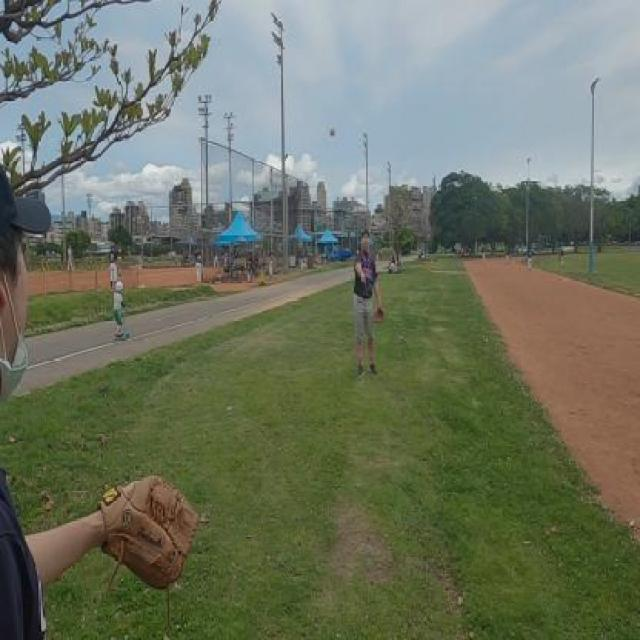baseball: (330, 126, 336, 139)
